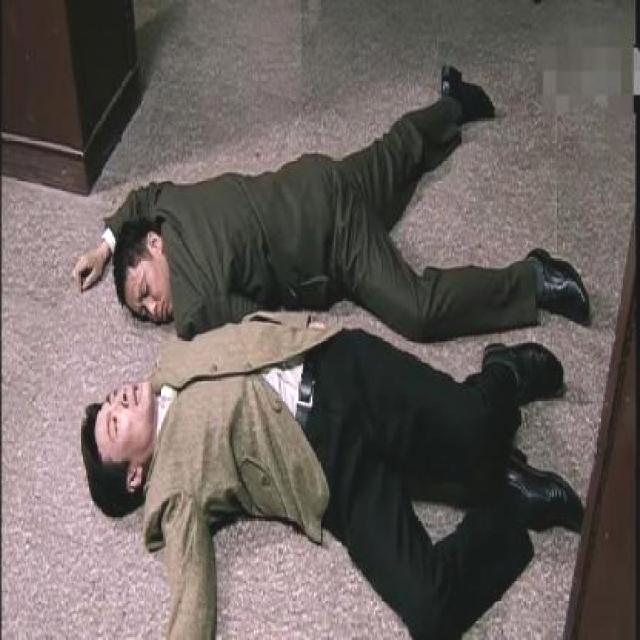face_nomask: (88, 371, 158, 449), (126, 263, 183, 329)
hand_noglove: (72, 249, 101, 294)
head_nohelmet: (66, 402, 120, 482)
person: (54, 339, 581, 603), (61, 160, 602, 343)
shoes: (518, 237, 600, 337), (498, 451, 592, 538), (478, 339, 570, 401), (434, 62, 501, 126)
